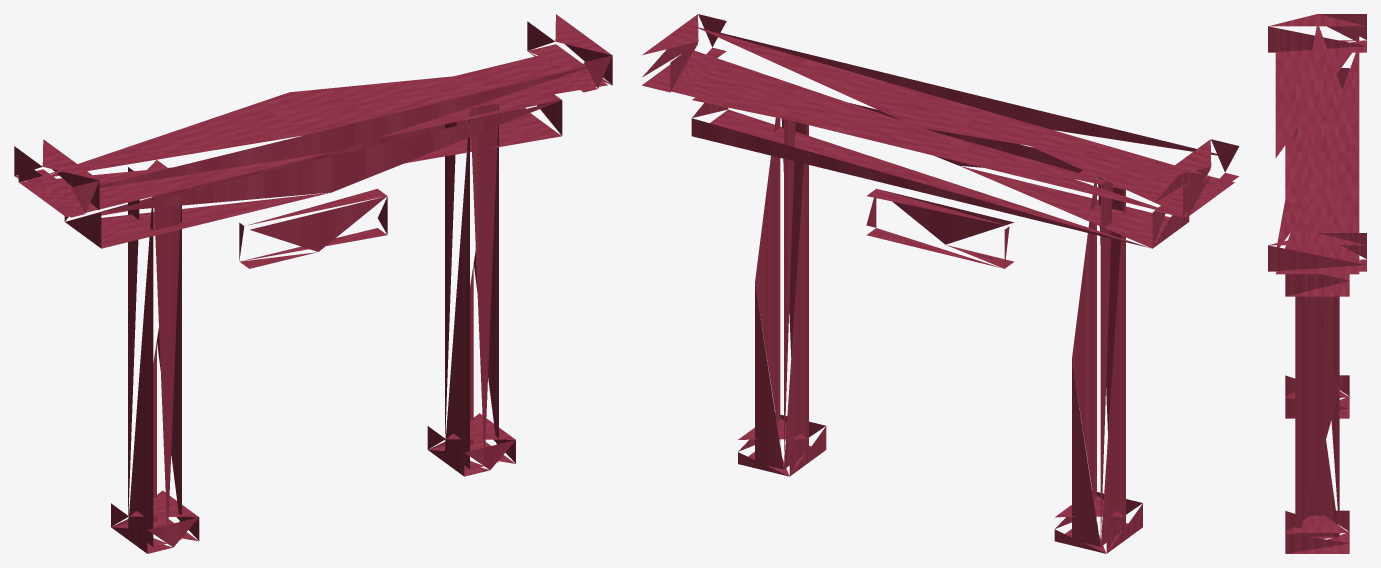
Rendered from KGB_Dojo_CeremonialTorii_v16_lod1.glb.
3 renders of one model, left to right at view 1: azimuth 30°, elevation 25°; view 2: azimuth 150°, elevation 25°; view 3: azimuth 270°, elevation 25°, orthographic. The views are drawn at different scales.
Parts seen in each view (by area): view 1: world; view 2: world; view 3: world.
Part boxes in pixels (box(x1,y1,x2,y2)): world: box(14, 14, 612, 553); world: box(642, 14, 1239, 553); world: box(1268, 14, 1366, 553).
Bounding box in the file's own units: 9.4 × 6.55 × 1.7.
1 material, 1 textured.
